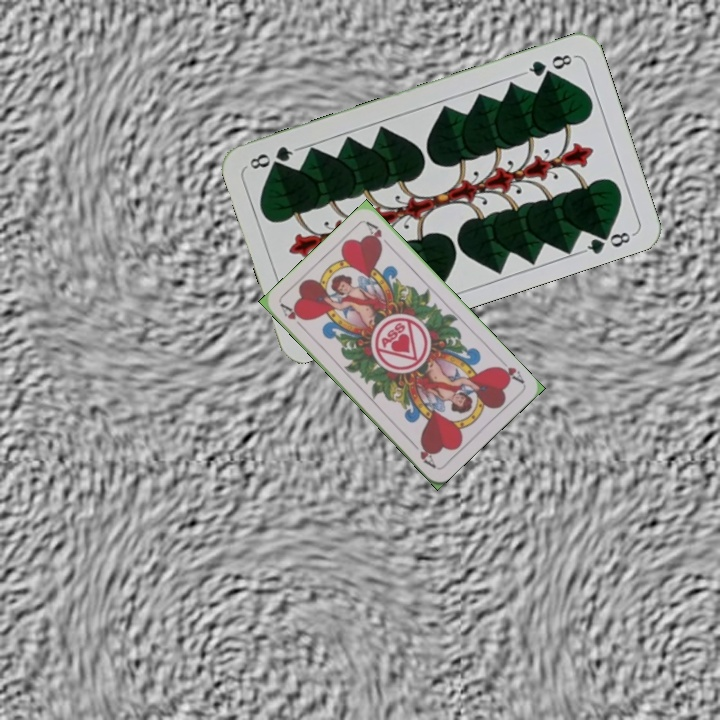G8: (520, 50, 578, 79)
HA: (492, 354, 527, 387), (276, 300, 308, 333)
